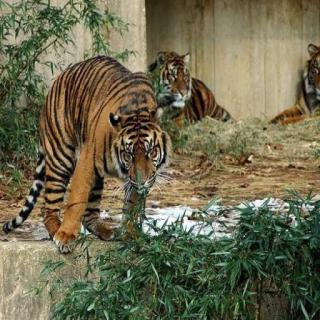Tiger: (22, 40, 170, 264), (149, 28, 217, 125), (288, 36, 320, 135)
